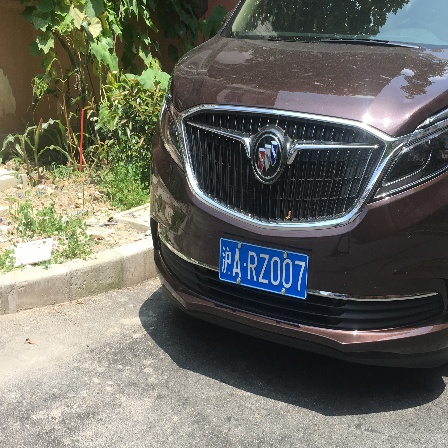plate: (217, 235, 315, 303)
